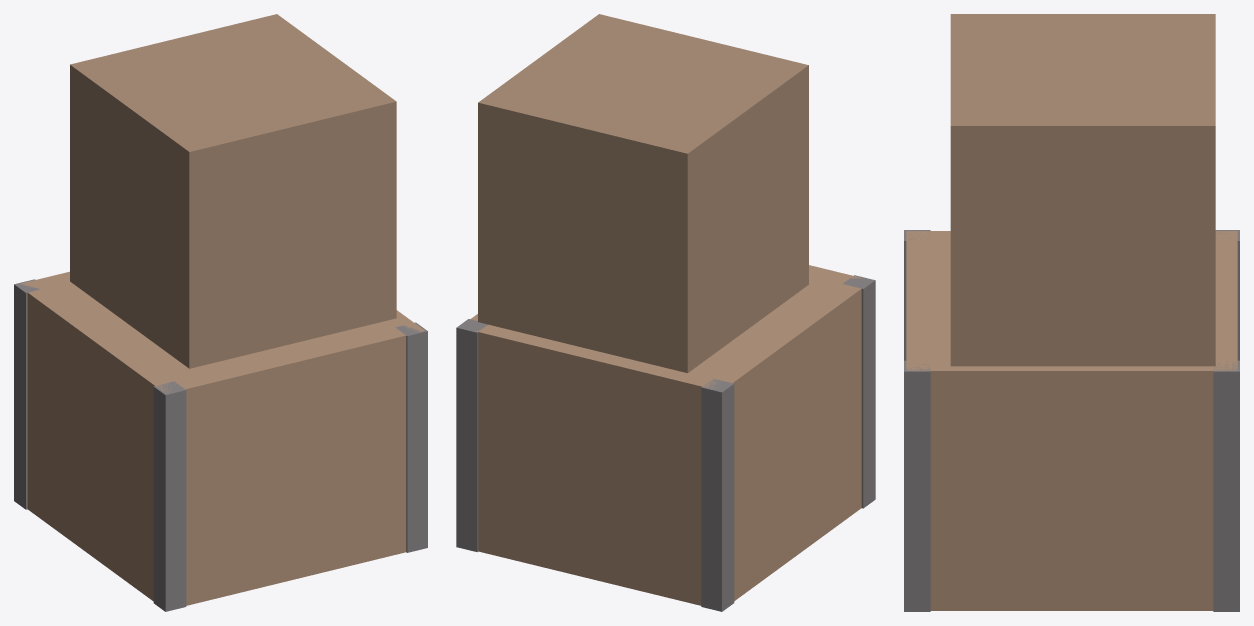
The model's file is crates_breakable_pieces.glb.
3 renders of one model, left to right at view 1: azimuth 30°, elevation 25°; view 2: azimuth 150°, elevation 25°; view 3: azimuth 270°, elevation 25°, orthographic. The views are drawn at different scales.
Visible parts, largest first — view 1: crates_breakable_piece_9, crates_breakable_piece_5, crates_breakable_piece_7, crates_breakable_piece_4, crates_breakable_piece_3, crates_breakable_piece_12, crates_breakable_piece_0, crates_breakable_piece_14, crates_breakable_piece_8, crates_breakable_piece_11, crates_breakable_piece_6, crates_breakable_piece_10; view 2: crates_breakable_piece_9, crates_breakable_piece_1, crates_breakable_piece_7, crates_breakable_piece_8, crates_breakable_piece_5, crates_breakable_piece_4, crates_breakable_piece_2, crates_breakable_piece_11, crates_breakable_piece_6, crates_breakable_piece_10, crates_breakable_piece_13, crates_breakable_piece_12; view 3: crates_breakable_piece_8, crates_breakable_piece_3, crates_breakable_piece_2, crates_breakable_piece_7, crates_breakable_piece_13, crates_breakable_piece_14, crates_breakable_piece_9, crates_breakable_piece_5, crates_breakable_piece_1, crates_breakable_piece_6, crates_breakable_piece_0.
Part boxes in pixels (x1,y1,x2,y2): crates_breakable_piece_9: [70, 79, 364, 368]; crates_breakable_piece_5: [20, 280, 304, 547]; crates_breakable_piece_7: [70, 32, 396, 252]; crates_breakable_piece_4: [27, 342, 307, 605]; crates_breakable_piece_3: [274, 310, 424, 568]; crates_breakable_piece_12: [153, 381, 186, 611]; crates_breakable_piece_0: [257, 348, 338, 575]; crates_breakable_piece_14: [395, 322, 427, 552]; crates_breakable_piece_8: [204, 14, 396, 281]; crates_breakable_piece_11: [14, 279, 40, 509]; crates_breakable_piece_6: [356, 245, 396, 328]; crates_breakable_piece_10: [70, 70, 115, 148]; crates_breakable_piece_9: [642, 45, 808, 373]; crates_breakable_piece_1: [494, 330, 707, 599]; crates_breakable_piece_7: [552, 14, 727, 262]; crates_breakable_piece_8: [478, 40, 601, 336]; crates_breakable_piece_5: [697, 265, 862, 436]; crates_breakable_piece_4: [675, 432, 861, 605]; crates_breakable_piece_2: [470, 314, 600, 580]; crates_breakable_piece_11: [701, 378, 734, 611]; crates_breakable_piece_6: [539, 230, 643, 362]; crates_breakable_piece_10: [630, 127, 708, 346]; crates_breakable_piece_13: [456, 319, 487, 552]; crates_breakable_piece_12: [843, 275, 875, 508]; crates_breakable_piece_8: [950, 86, 1215, 366]; crates_breakable_piece_3: [906, 300, 1132, 610]; crates_breakable_piece_2: [1026, 348, 1237, 610]; crates_breakable_piece_7: [950, 14, 1215, 215]; crates_breakable_piece_13: [1213, 360, 1239, 611]; crates_breakable_piece_14: [904, 360, 930, 611]; crates_breakable_piece_9: [950, 14, 1169, 57]; crates_breakable_piece_5: [906, 231, 1237, 296]; crates_breakable_piece_1: [1215, 240, 1237, 352]; crates_breakable_piece_6: [950, 326, 1029, 366]; crates_breakable_piece_0: [906, 290, 950, 308].
Bounding box in the file's own units: 1.52 × 2.4 × 1.52.
